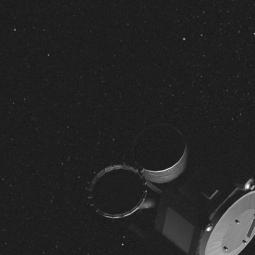cheops: (88, 112, 254, 255)
